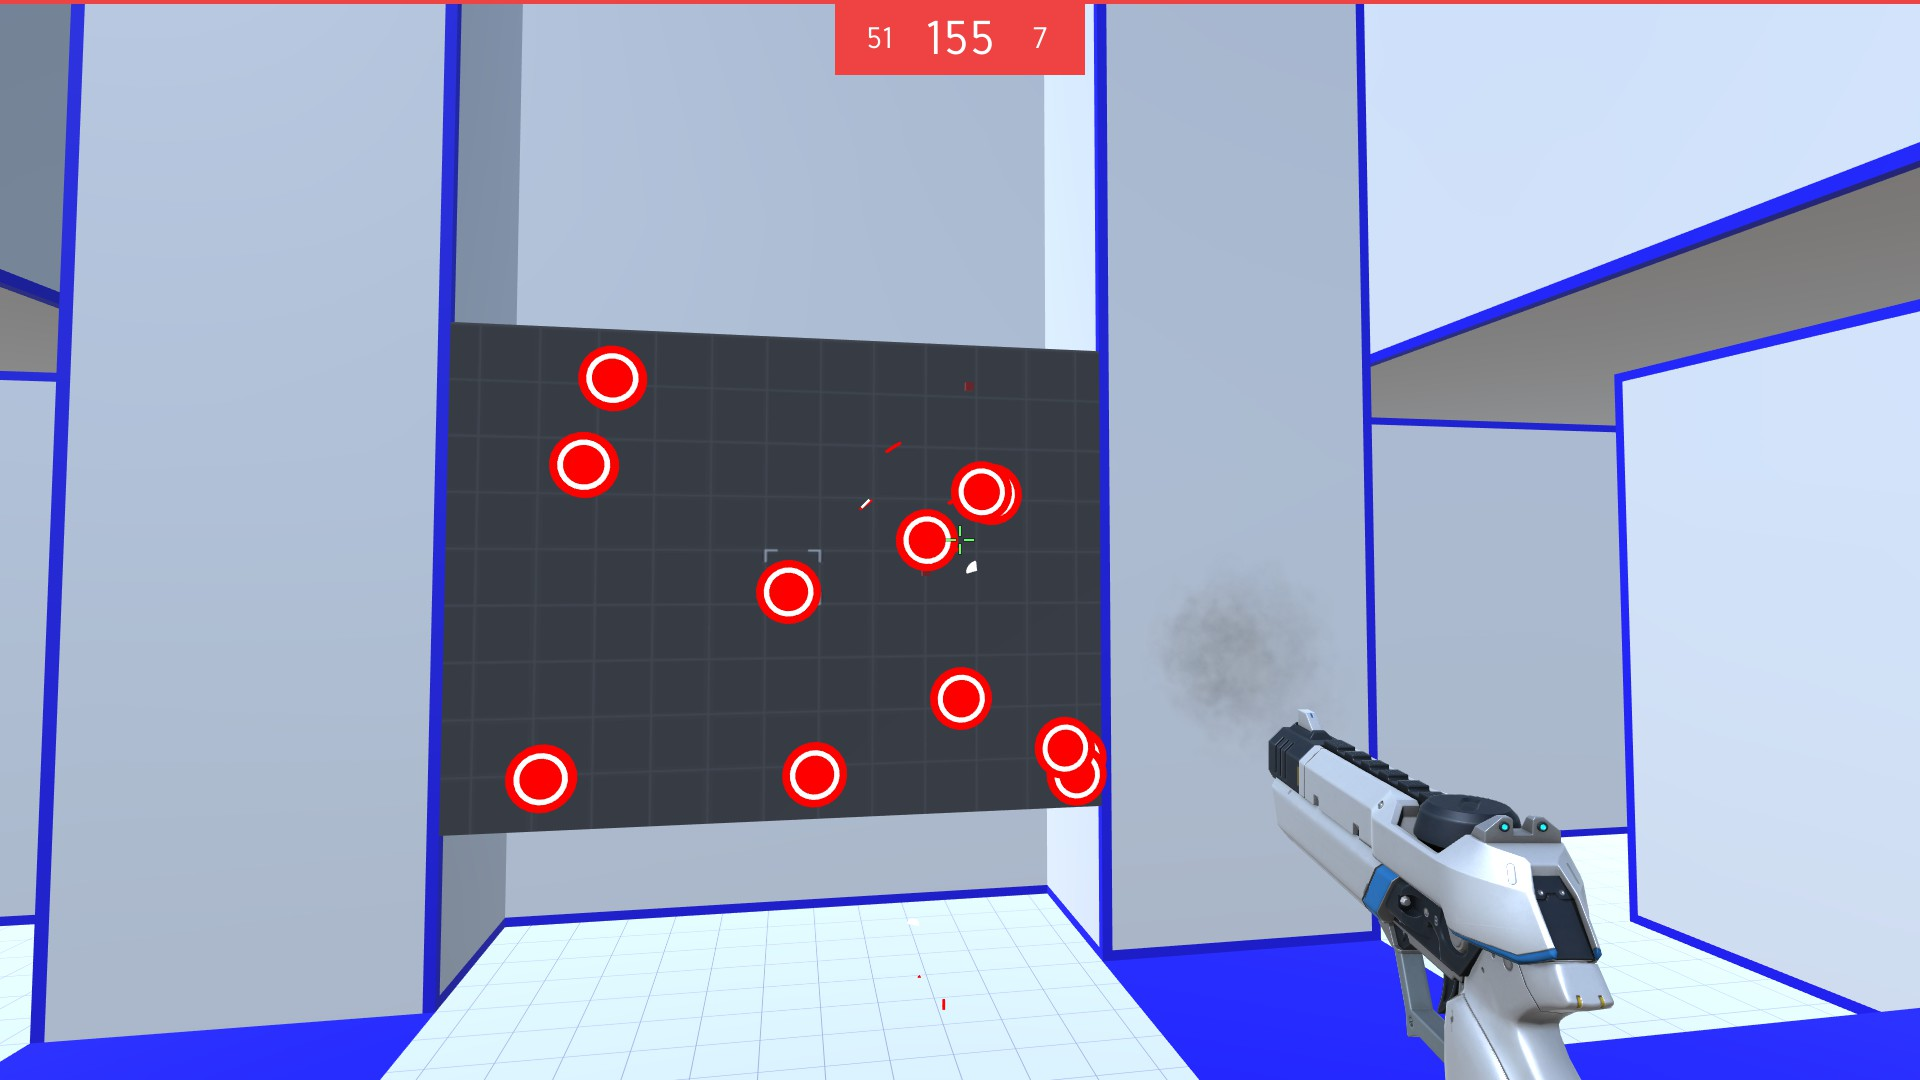target: (505, 744, 579, 814), (546, 433, 624, 498), (576, 342, 647, 413), (756, 556, 827, 628), (779, 738, 853, 806), (927, 665, 993, 731), (895, 512, 963, 575), (949, 458, 1007, 524), (1033, 716, 1093, 775), (1044, 754, 1106, 806)
